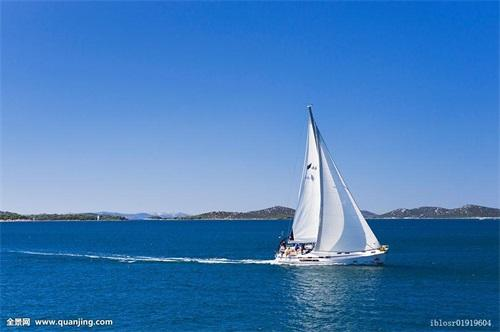Ship: (276, 106, 390, 268)
